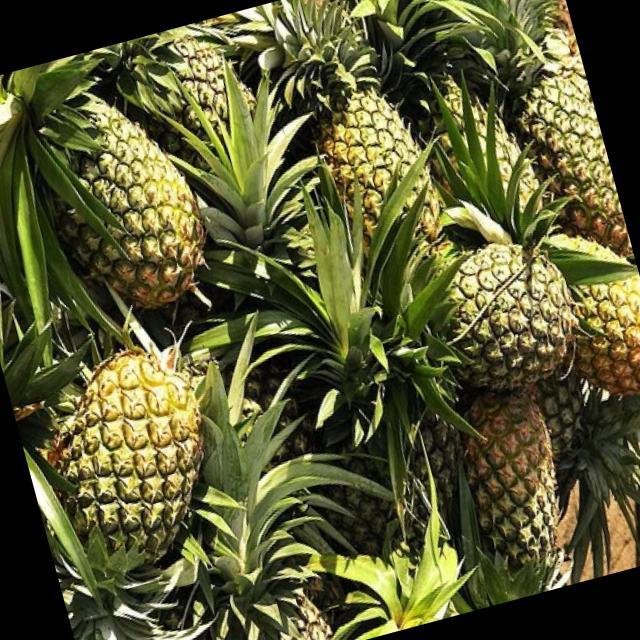PINEAPLE: (2, 54, 224, 319), (35, 327, 244, 608), (250, 0, 457, 268), (426, 364, 608, 605), (479, 0, 627, 253), (423, 200, 594, 399), (123, 12, 273, 197), (228, 513, 348, 640), (563, 257, 640, 390)
